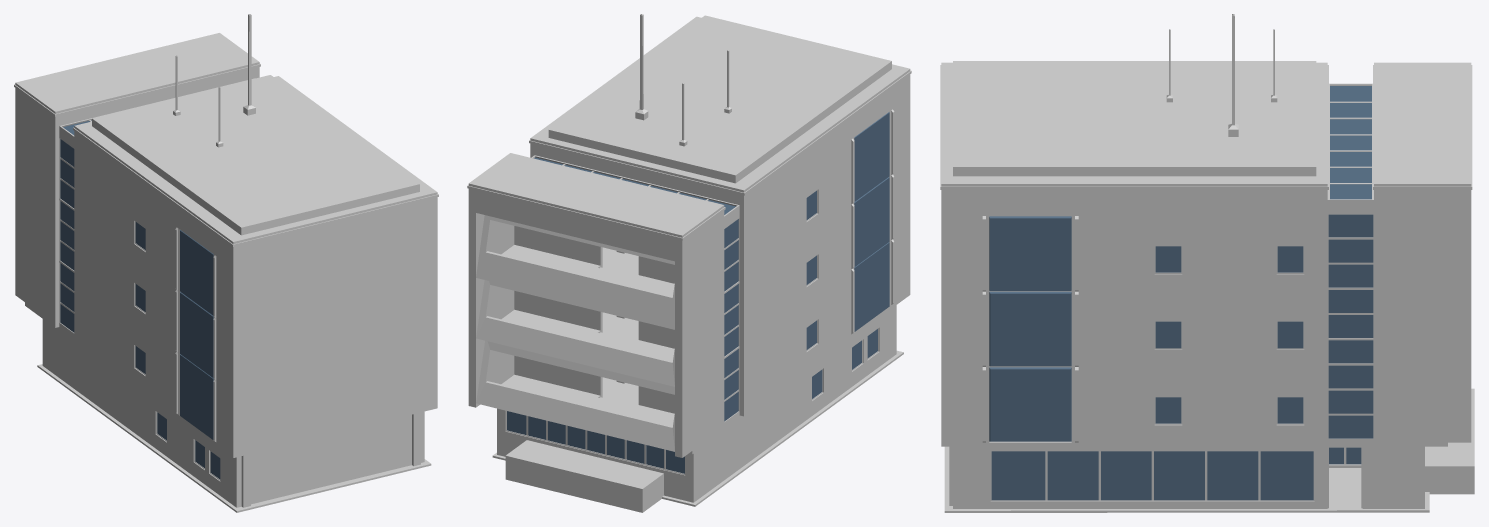
The model's file is res_02.glb.
The picture shows the model from 3 angles, left to right: view 1: azimuth 30°, elevation 25°; view 2: azimuth 150°, elevation 25°; view 3: azimuth 270°, elevation 25°; orthographic projection. The views are drawn at different scales.
Parts seen in each view (by area): view 1: Residential Buildings 002; view 2: Residential Buildings 002; view 3: Residential Buildings 002.
Part boxes in pixels (left/top/right/bottom): Residential Buildings 002: left=14, top=14, right=438, bottom=512; Residential Buildings 002: left=467, top=14, right=911, bottom=512; Residential Buildings 002: left=940, top=14, right=1474, bottom=512.
Bounding box in the file's own units: 12.6 × 21.99 × 23.1.
